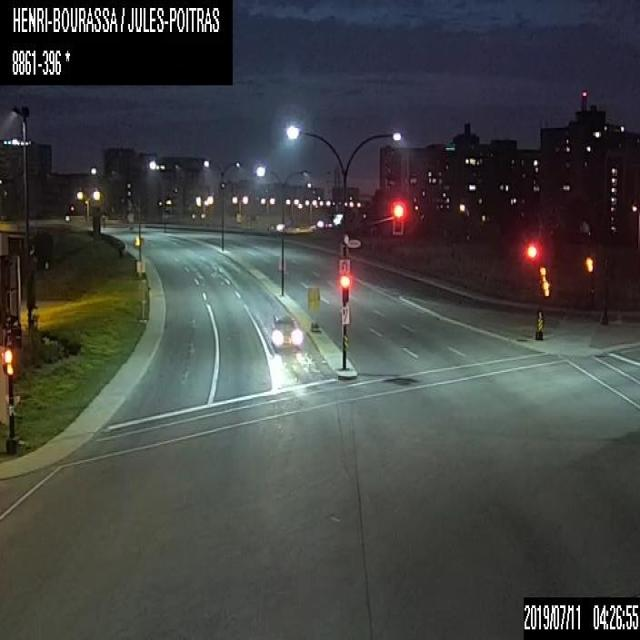vehicle: (269, 310, 302, 351)
